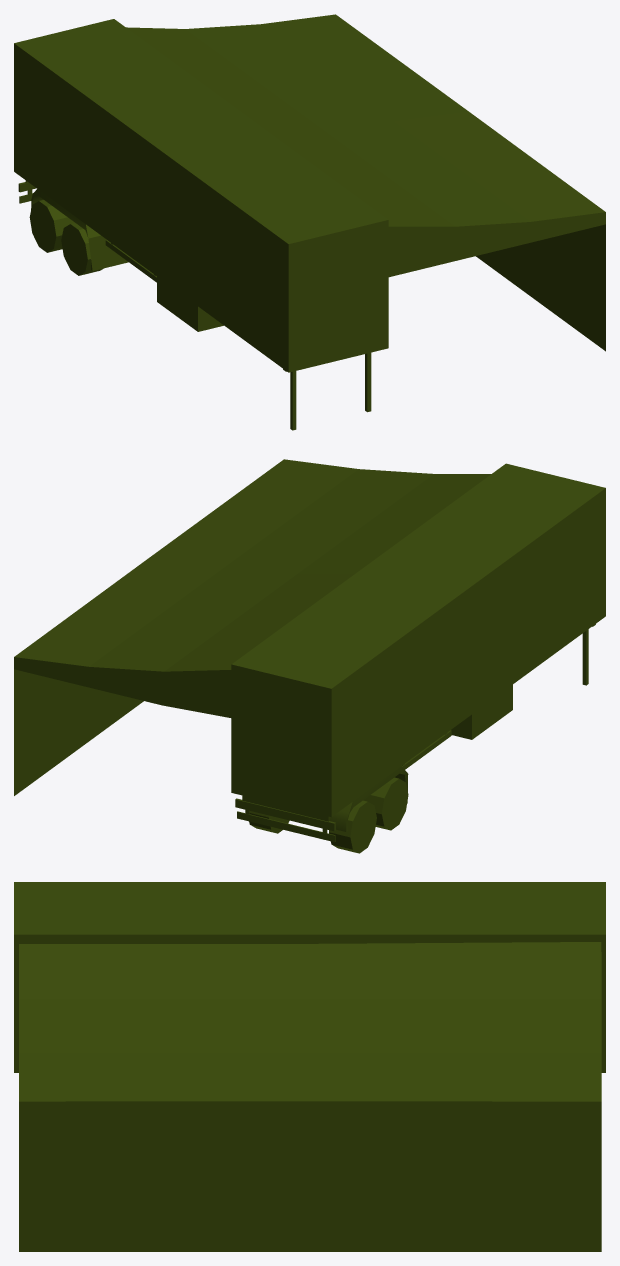
File: Tents01B_M.fbx
3 renders of one model, top to bottom at view 1: azimuth 30°, elevation 25°; view 2: azimuth 150°, elevation 25°; view 3: azimuth 270°, elevation 25°, orthographic. The views are drawn at different scales.
Parts seen in each view (by area): view 1: Tents01B; view 2: Tents01B; view 3: Tents01B.
Part boxes in pixels (bbox=[...]): Tents01B: bbox=[14, 14, 605, 430]; Tents01B: bbox=[14, 459, 605, 853]; Tents01B: bbox=[14, 882, 605, 1251].
Size of the model in its own units: 2.94 by 1.7 by 4.36.
